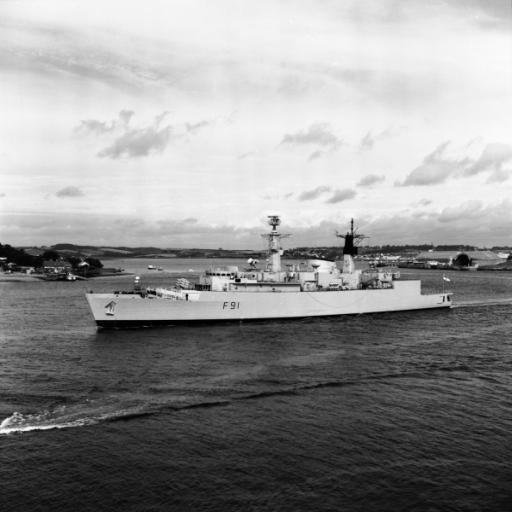Fragata: (80, 210, 455, 337)
